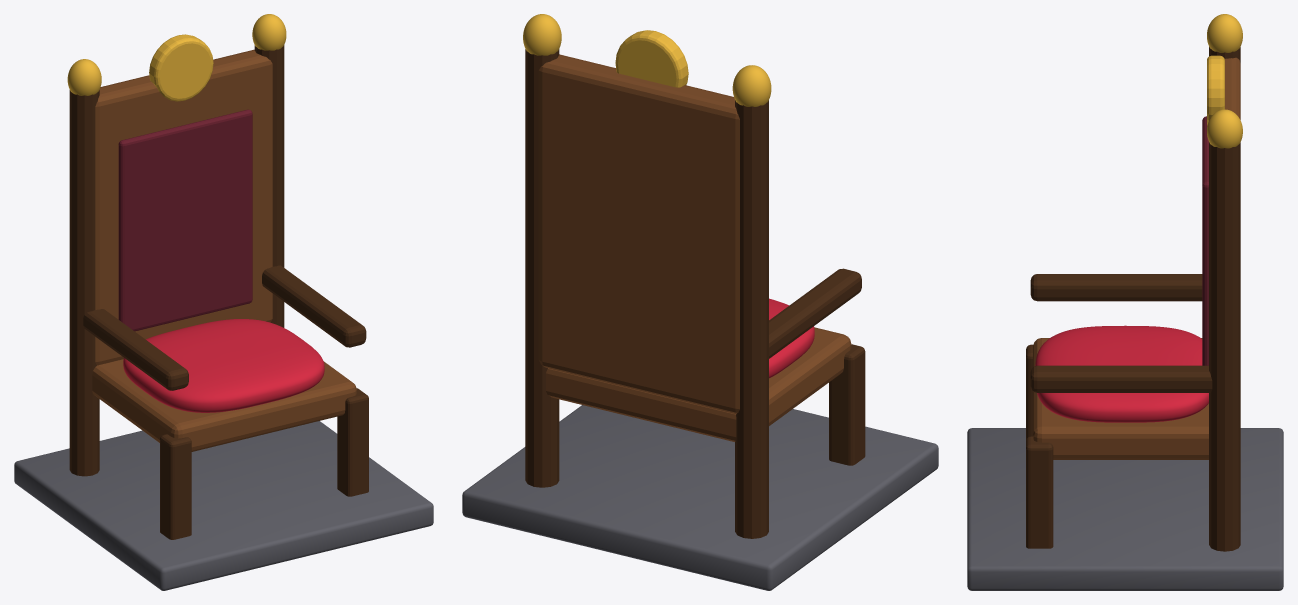
Rendered from trono.glb.
The picture shows the model from 3 angles, left to right: view 1: azimuth 30°, elevation 25°; view 2: azimuth 150°, elevation 25°; view 3: azimuth 270°, elevation 25°; orthographic projection. The views are drawn at different scales.
Parts seen in each view (by area): view 1: tarima, tapiz, respaldo, cojin, poste-1, asiento, poste1, remate, brazo-1, brazo1, pata-1, pata1 (+2 smaller); view 2: respaldo, tarima, poste-1, asiento, poste1, pata-1, brazo-1, remate, pina1, pina-1, cojin; view 3: tarima, poste1, cojin, asiento, brazo1, brazo-1, pata1, tapiz, pina1, pina-1, remate, respaldo (+1 smaller).
Part boxes in pixels (x1=…): tarima: x1=14, y1=421, x2=433, y2=590; tapiz: x1=118, y1=109, x2=252, y2=331; respaldo: x1=95, y1=49, x2=272, y2=365; cojin: x1=123, y1=319, x2=324, y2=412; poste-1: x1=69, y1=90, x2=99, y2=476; asiento: x1=92, y1=359, x2=356, y2=451; poste1: x1=254, y1=45, x2=284, y2=327; remate: x1=149, y1=34, x2=213, y2=101; brazo-1: x1=83, y1=309, x2=188, y2=390; brazo1: x1=262, y1=265, x2=366, y2=347; pata-1: x1=160, y1=434, x2=191, y2=539; pata1: x1=337, y1=388, x2=368, y2=496; respaldo: x1=538, y1=54, x2=739, y2=414; tarima: x1=462, y1=405, x2=938, y2=590; poste-1: x1=735, y1=100, x2=768, y2=538; asiento: x1=546, y1=327, x2=851, y2=441; poste1: x1=525, y1=49, x2=559, y2=487; pata-1: x1=829, y1=344, x2=865, y2=465; brazo-1: x1=769, y1=268, x2=861, y2=358; remate: x1=615, y1=30, x2=688, y2=87; pina1: x1=523, y1=14, x2=561, y2=55; pina-1: x1=732, y1=65, x2=771, y2=106; cojin: x1=769, y1=298, x2=814, y2=378; tarima: x1=967, y1=428, x2=1283, y2=590; poste1: x1=1209, y1=142, x2=1240, y2=551; cojin: x1=1035, y1=325, x2=1208, y2=422; asiento: x1=1033, y1=338, x2=1208, y2=459; brazo1: x1=1030, y1=365, x2=1212, y2=392; brazo-1: x1=1030, y1=274, x2=1202, y2=301; pata1: x1=1026, y1=436, x2=1053, y2=548; tapiz: x1=1202, y1=116, x2=1208, y2=365; pina1: x1=1207, y1=109, x2=1242, y2=148; pina-1: x1=1207, y1=14, x2=1242, y2=52; remate: x1=1207, y1=55, x2=1224, y2=125; respaldo: x1=1210, y1=57, x2=1240, y2=119.
Size of the model in its own units: 0.74 by 1.13 by 0.7.
